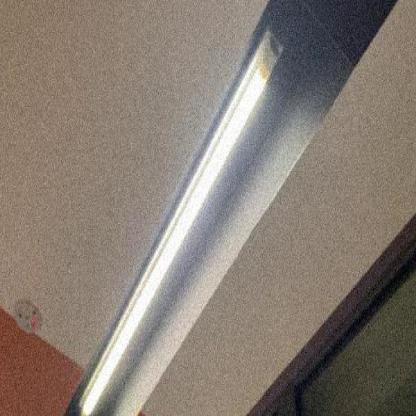light_on: (76, 13, 286, 414)
